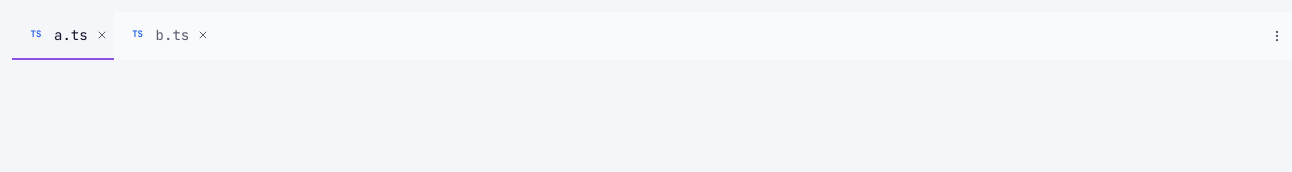
Test: EditorTabs › opens the menu with focus on its item, and Escape closes it back to the kebab button
The image size is (1292, 172).
Click the button named "Tab options": (1277, 36) x1=1270 y1=29 x2=1284 y2=43
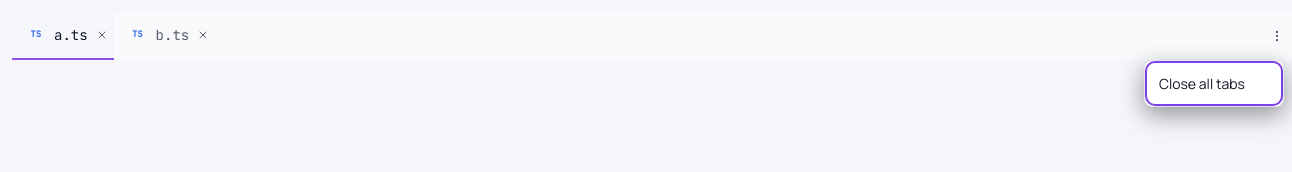
Press Escape
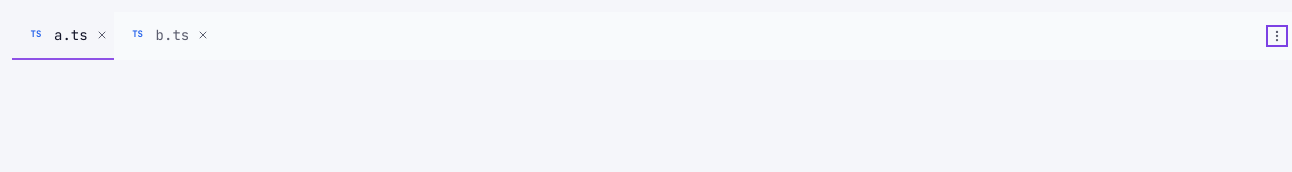
Result: the menu is gone
